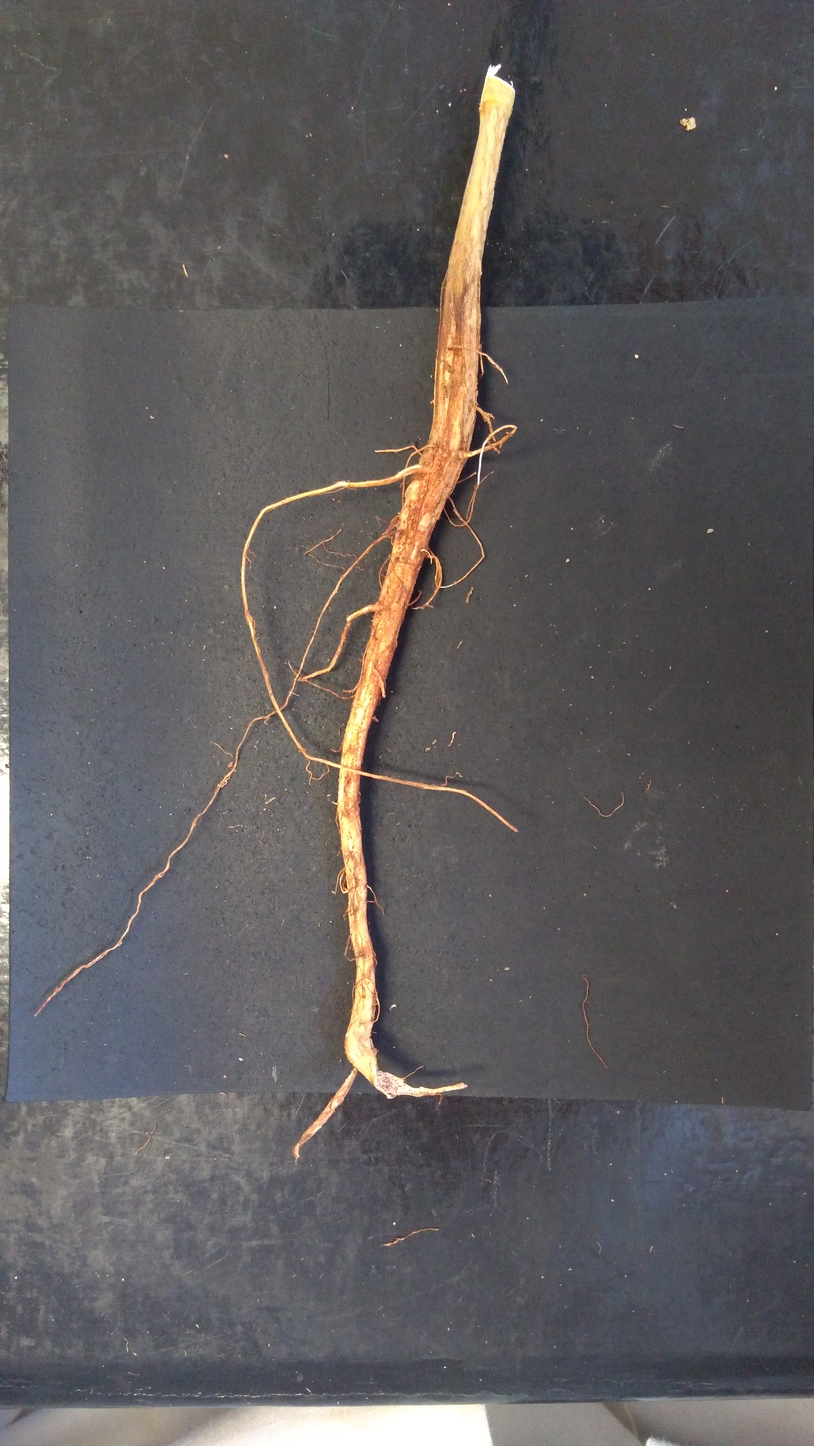nodule: (679, 116, 696, 132)
